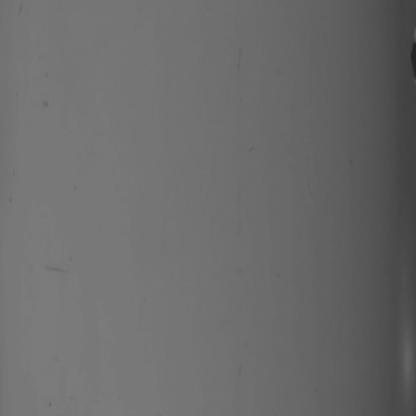kongdong: (403, 28, 416, 111)
